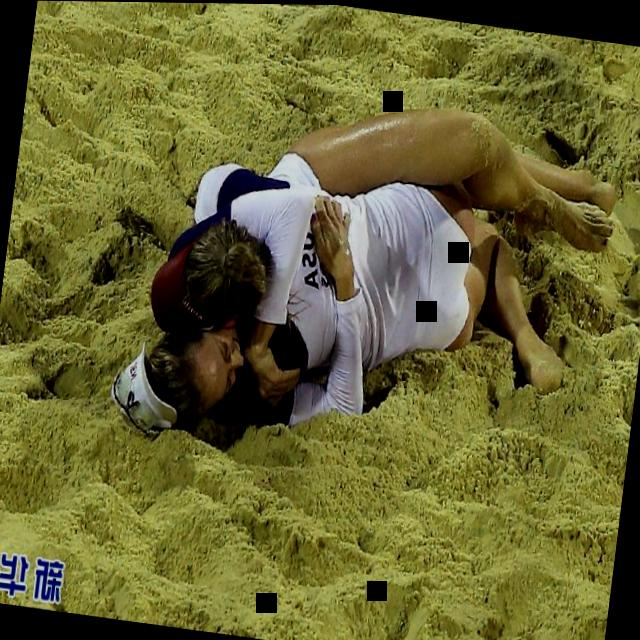Fall-Detected: (125, 112, 602, 494)
